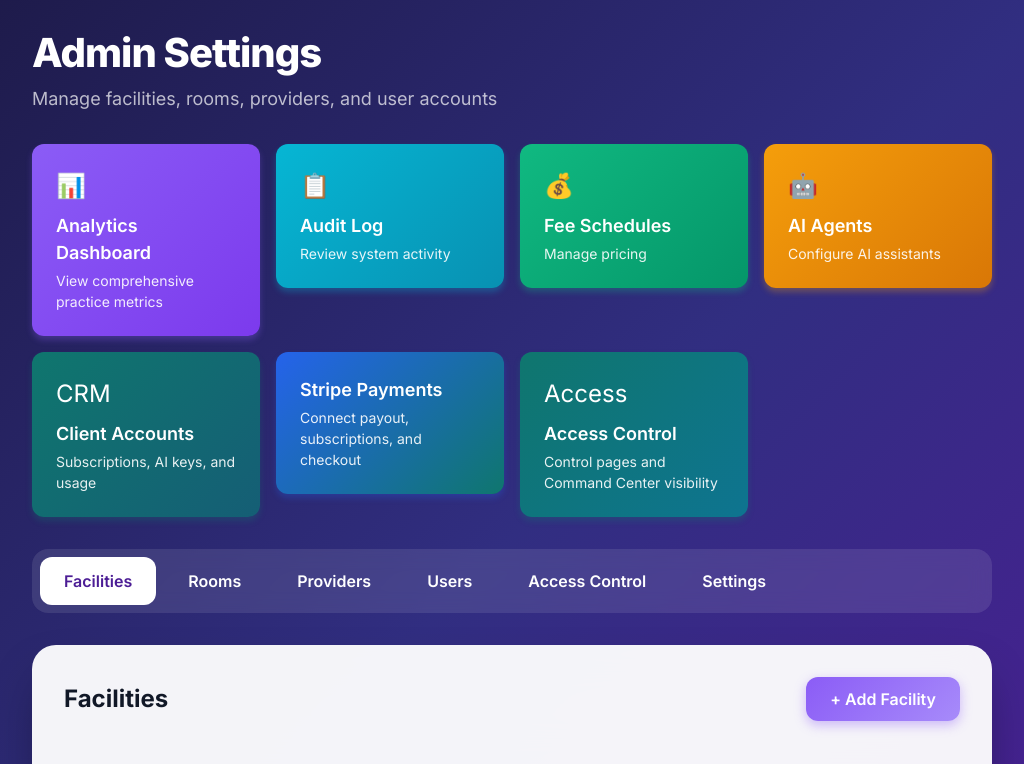
Test: AdminPage › should switch to rooms tab and load rooms
Step 1. Click the button "Rooms" → [215, 581], box [164,557,265,605]
(page scrolled)
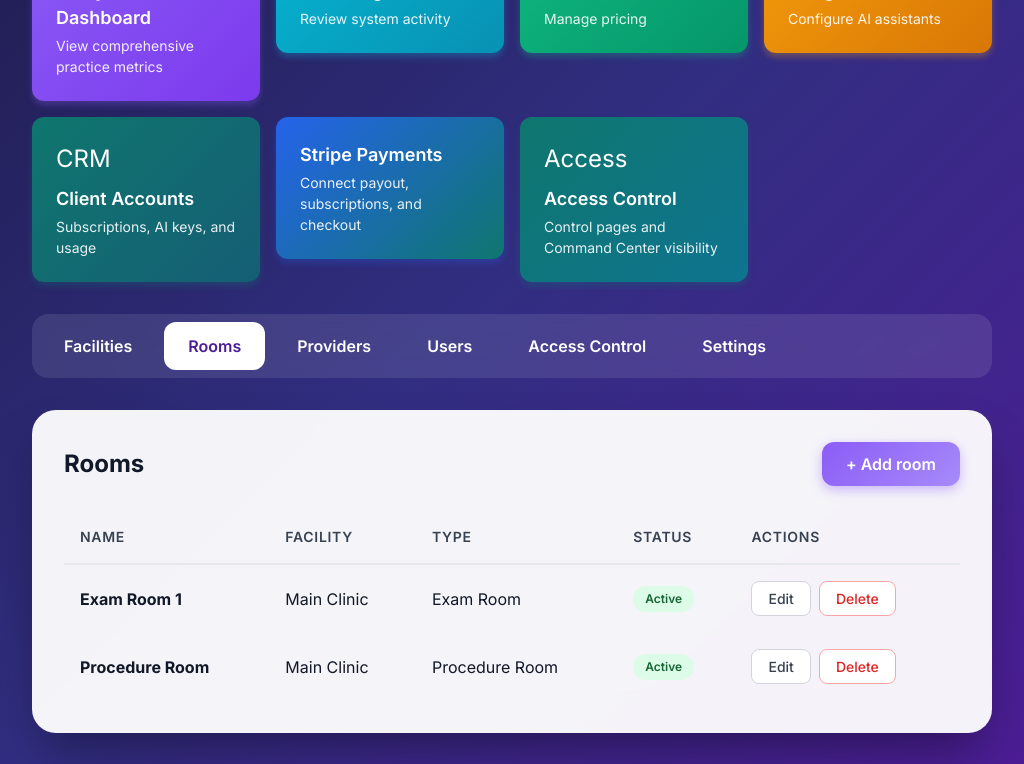
Check: the text "Exam Room 1" is shown, box [80,588,182,608]
Check: the text "Procedure Room" is shown, box [80,656,209,676]
